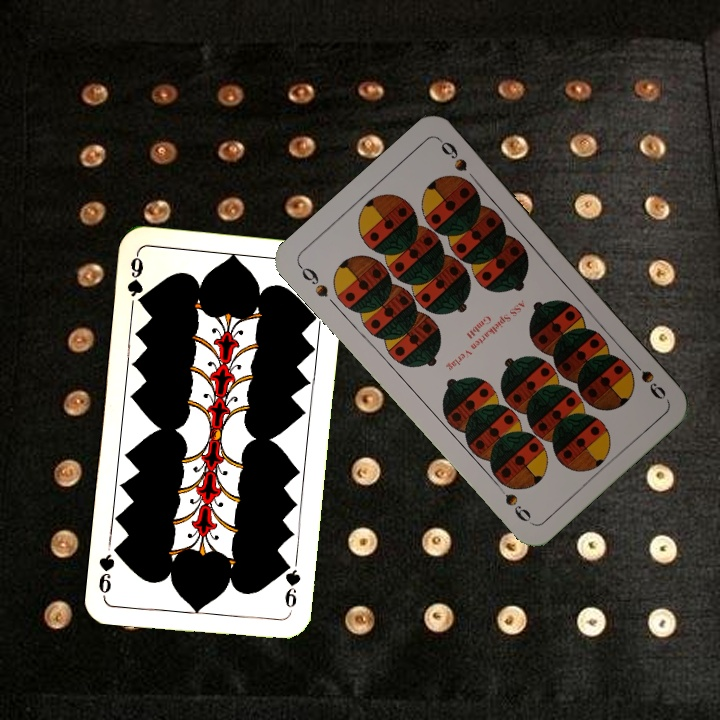G9: (123, 250, 148, 310), (280, 556, 303, 616)
S9: (625, 353, 669, 403), (294, 260, 331, 300)
